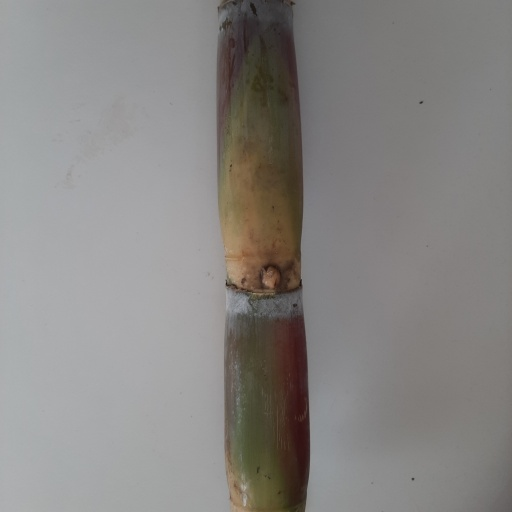Bud: (259, 263, 281, 291)
